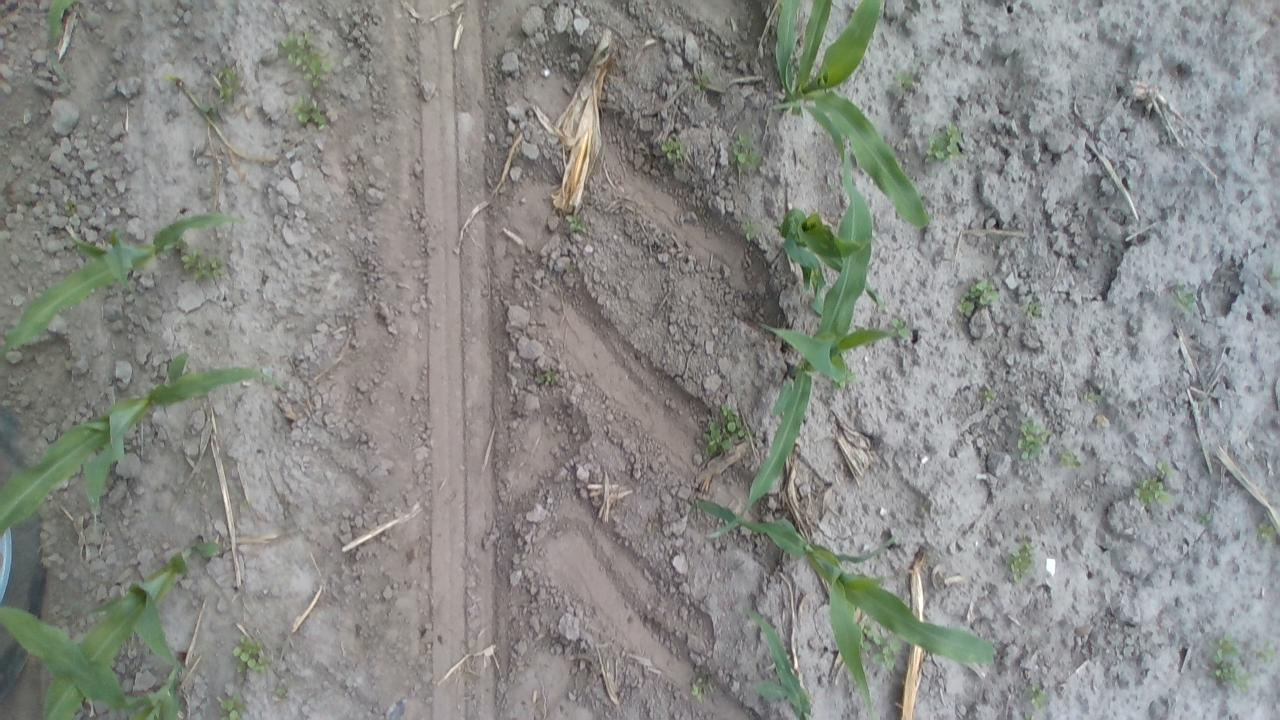Maize: (702, 152, 899, 542), (692, 502, 1006, 716), (0, 348, 281, 546), (765, 0, 933, 243), (6, 537, 228, 720), (0, 207, 247, 364), (0, 609, 196, 720), (778, 201, 892, 317), (169, 76, 275, 192), (742, 606, 814, 717), (42, 0, 78, 90)
Weeds: (272, 28, 338, 88), (700, 401, 750, 461), (1206, 630, 1251, 691), (1129, 458, 1178, 509), (176, 248, 228, 286), (861, 622, 902, 670), (922, 121, 965, 166), (1014, 415, 1053, 463), (233, 636, 271, 678), (1004, 538, 1038, 584), (725, 134, 763, 173), (962, 276, 1004, 310), (290, 96, 331, 130), (1168, 280, 1204, 318), (212, 66, 246, 104), (215, 694, 249, 719), (661, 134, 689, 164), (689, 66, 717, 95), (687, 670, 713, 700), (1024, 684, 1053, 710), (892, 66, 918, 95), (739, 216, 763, 247), (1254, 517, 1277, 546), (1058, 445, 1084, 470), (565, 210, 589, 236), (532, 367, 558, 390), (890, 316, 914, 340), (1082, 387, 1104, 413), (1193, 506, 1215, 529), (1254, 640, 1275, 664), (271, 679, 294, 700), (554, 259, 580, 276), (57, 196, 80, 215), (1023, 298, 1044, 318), (980, 385, 1000, 406), (1264, 264, 1276, 289)
